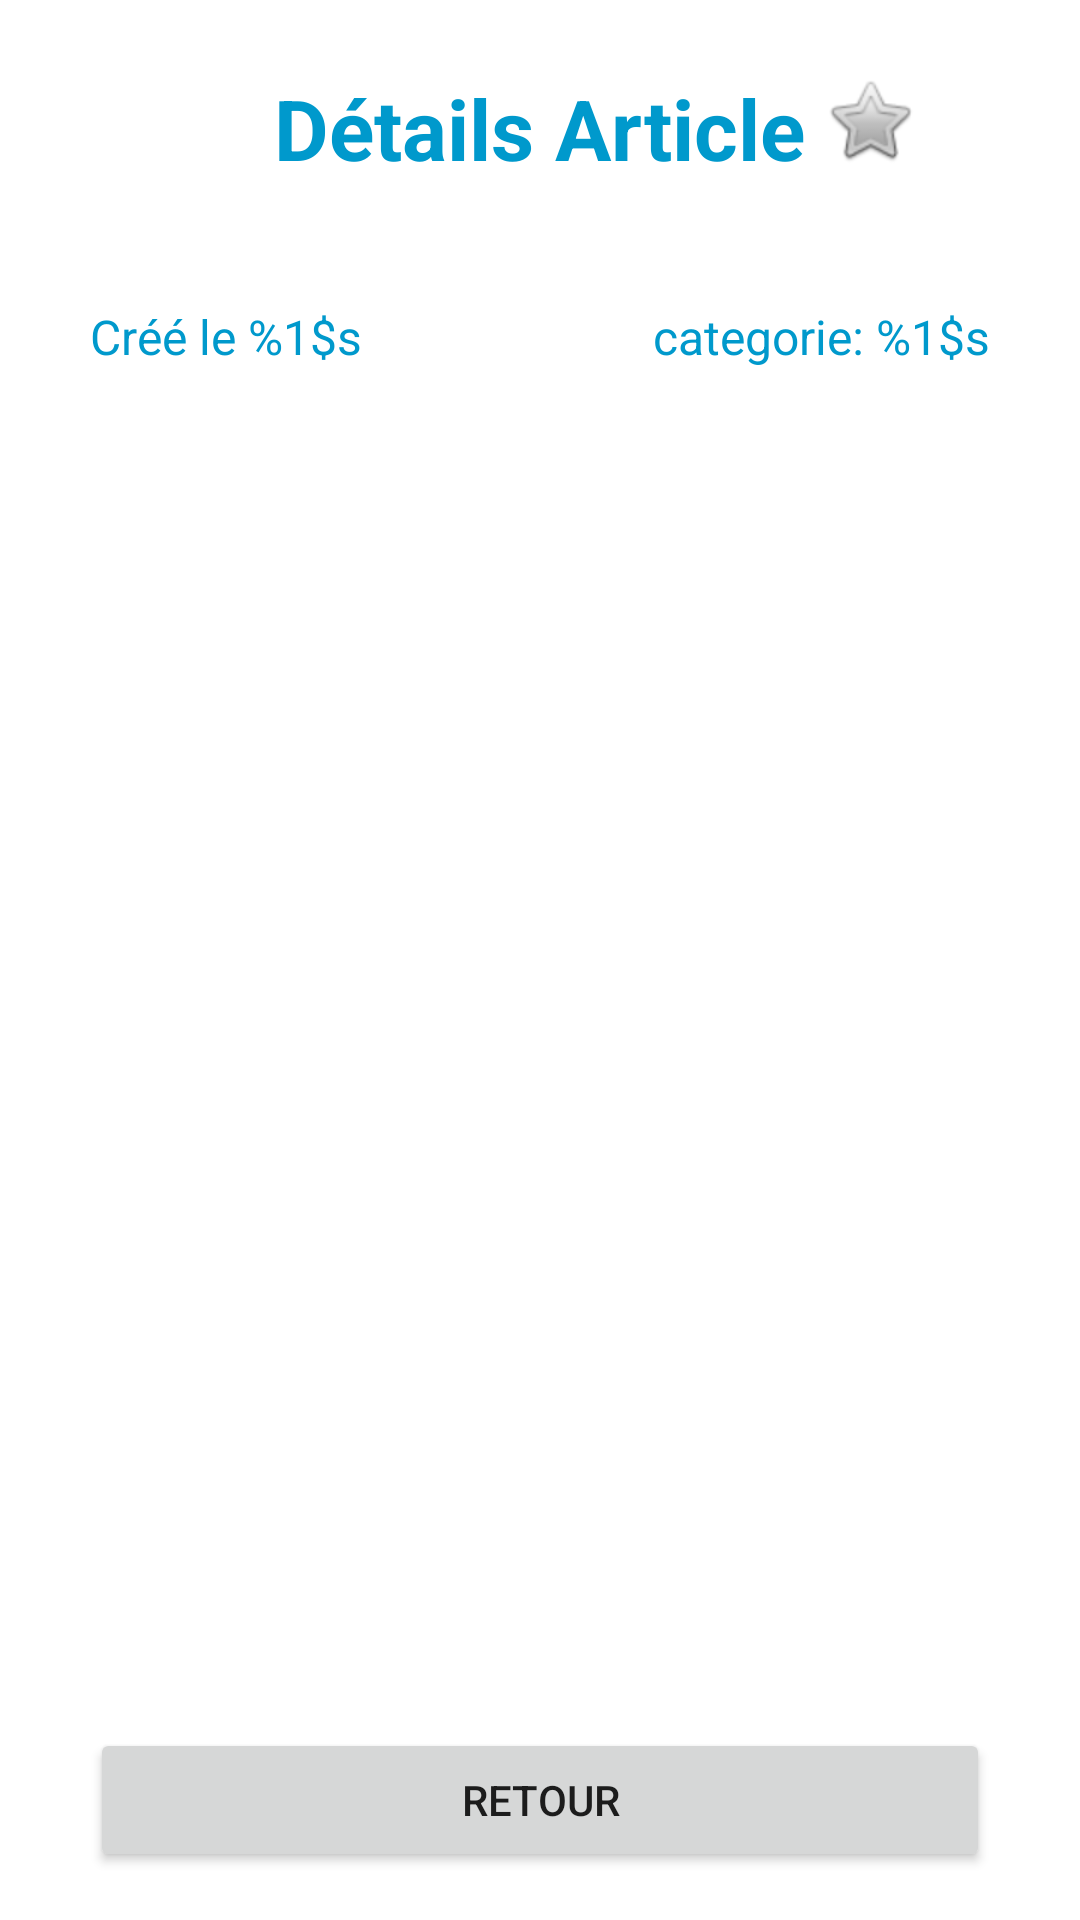

Icon bounding boxes for this 1080px×1920px phone screenshot, format {"left": x1, "top": y1, "right": x2, "bottom": y2}:
favori: {"left": 831, "top": 82, "right": 911, "bottom": 160}
